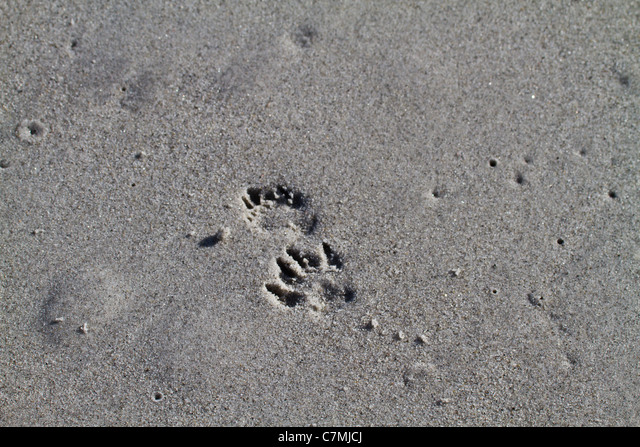chien: (265, 237, 358, 317)
